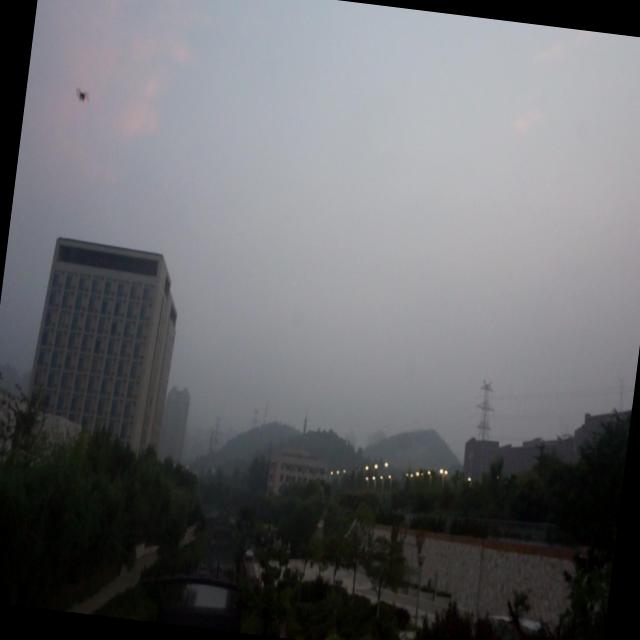drone: (70, 85, 94, 108)
